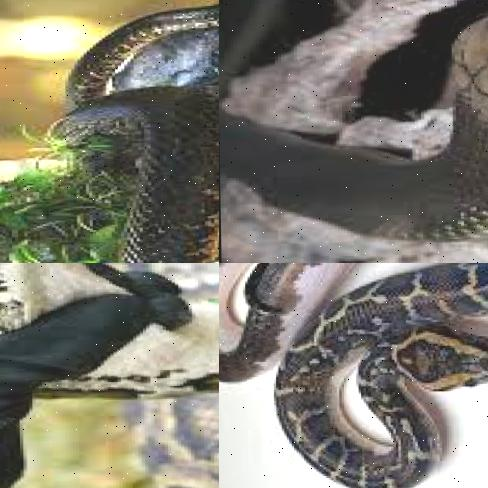snake: (219, 0, 488, 263), (219, 263, 488, 487), (0, 0, 219, 263), (0, 263, 219, 417)
